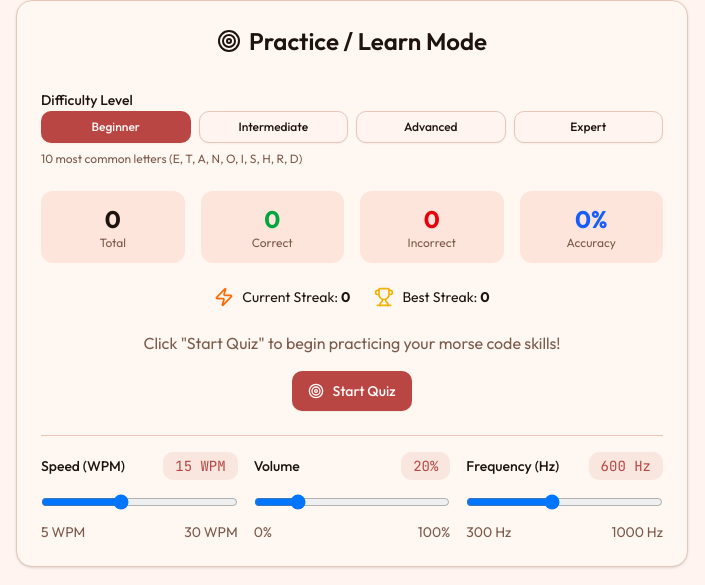
Test: PracticeQuiz › changes to expert description
Click the button "Expert". click: (588, 127)
box: [514,111,663,143]
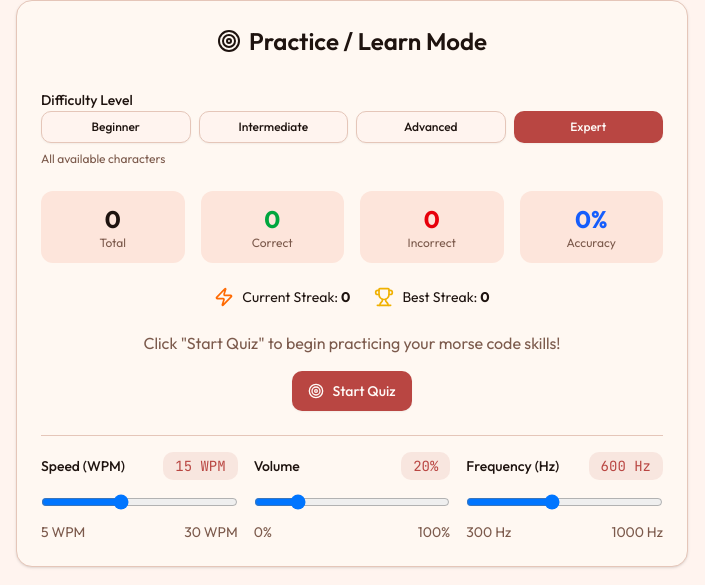
expect the text "All available characters" is shown: met, box [41,151,165,166]
